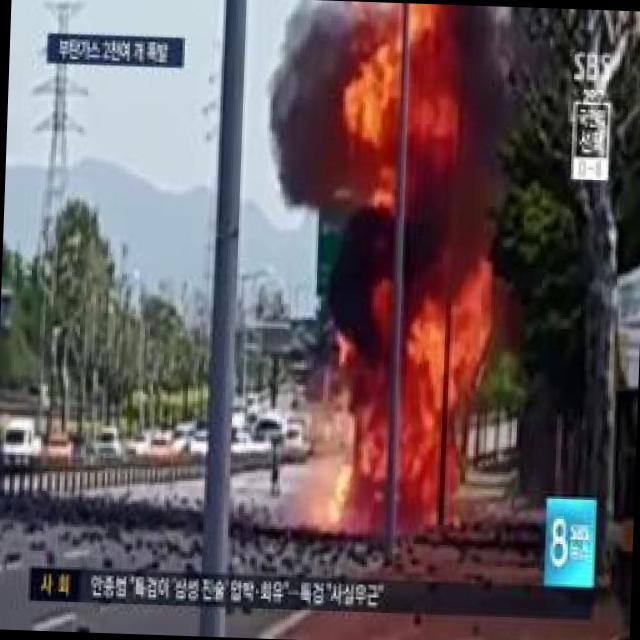Fire: (330, 292, 493, 539), (349, 37, 444, 172)
